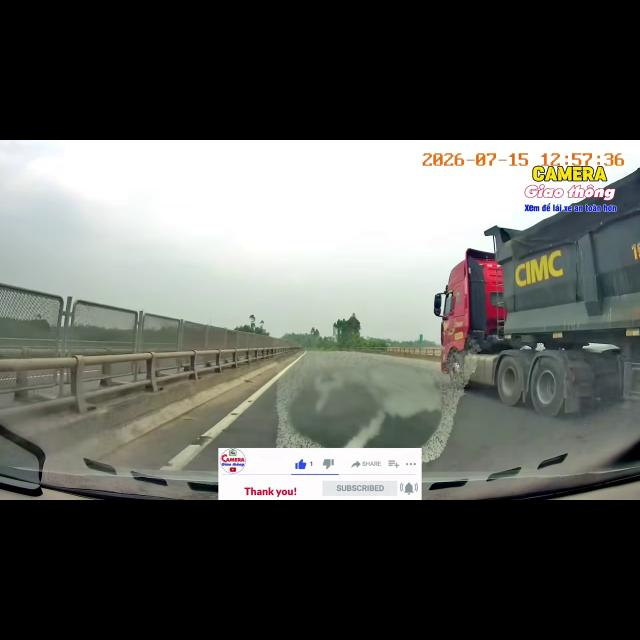truck: (434, 169, 639, 416)
